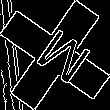M_SW: (22, 21, 88, 89)
